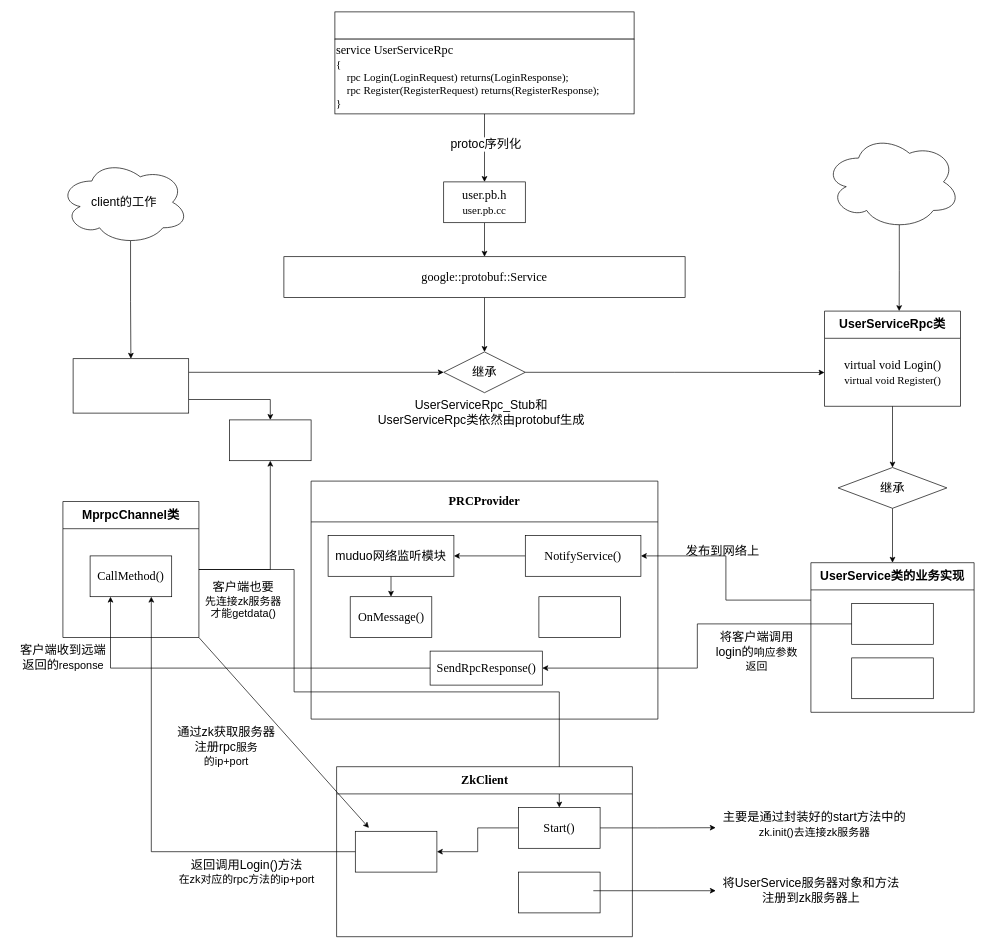
Some shapes in this 986 by 949 pixel diagram are drawn without their labels. The shapes that lost their labels are listed below. From the top down, each one's centre as x and y in pixels, then its label:
At pixel 484 25: "user.proto".
At pixel 892 182: "service的工作".
At pixel 130 385: "UserService_stub".
At pixel 270 440: "Login()".
At pixel 579 617: "Run()".
At pixel 892 623: "void Login（）".
At pixel 892 678: "void Register()".
At pixel 396 851: "void Login()".
At pixel 559 892: "Create()".
